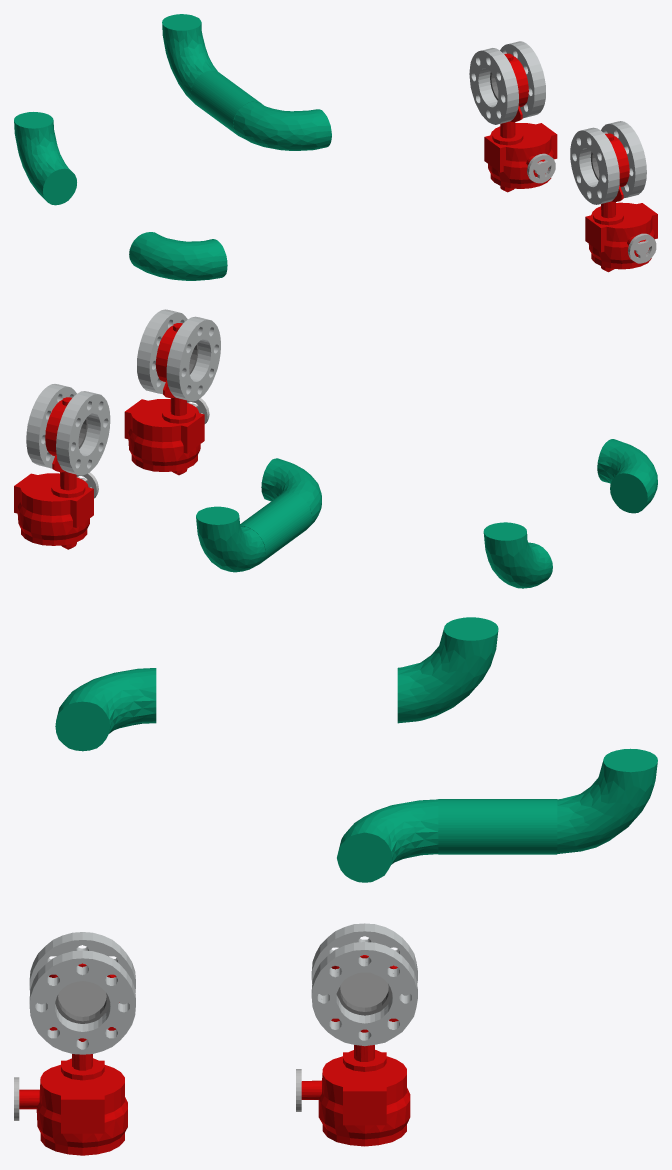
3 renders of one model, top to bottom at view 1: azimuth 30°, elevation 25°; view 2: azimuth 150°, elevation 25°; view 3: azimuth 270°, elevation 25°, orthographic. The views are drawn at different scales.
Bounding box in the file's own units: 1.65 × 0.5204 × 1.33.
